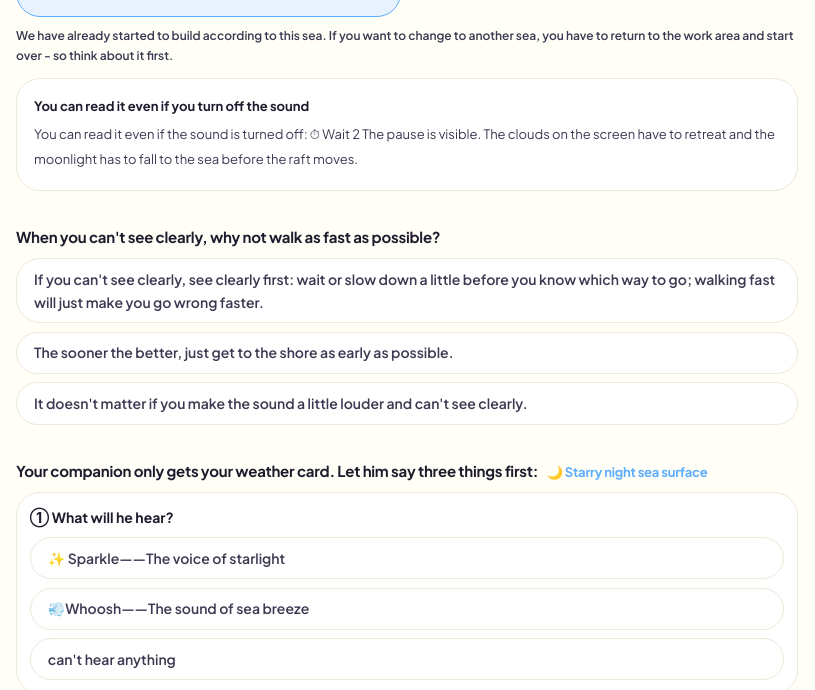
Test: JourneyWestC3Part5Page — Both starry night and morning fog require observation › refuses the "faster is better" explanation with a text-grounded hint
(page scrolled)
Click the button "The sooner the better, just get to the shore as early as possible.": (407, 353) [16, 332, 798, 374]
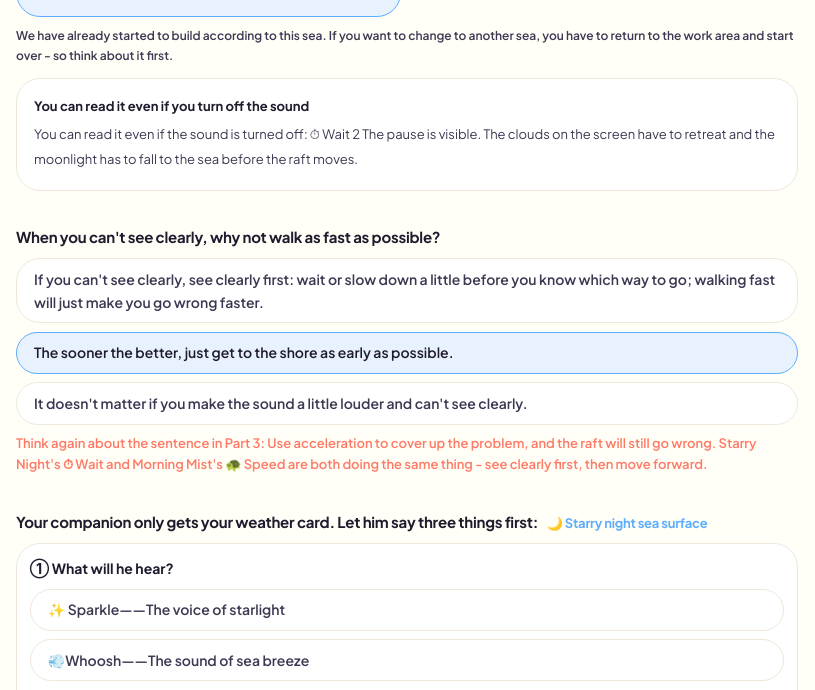
expect the message shows "Use acceleration to cover up the problem": met, box [16, 435, 756, 472]
